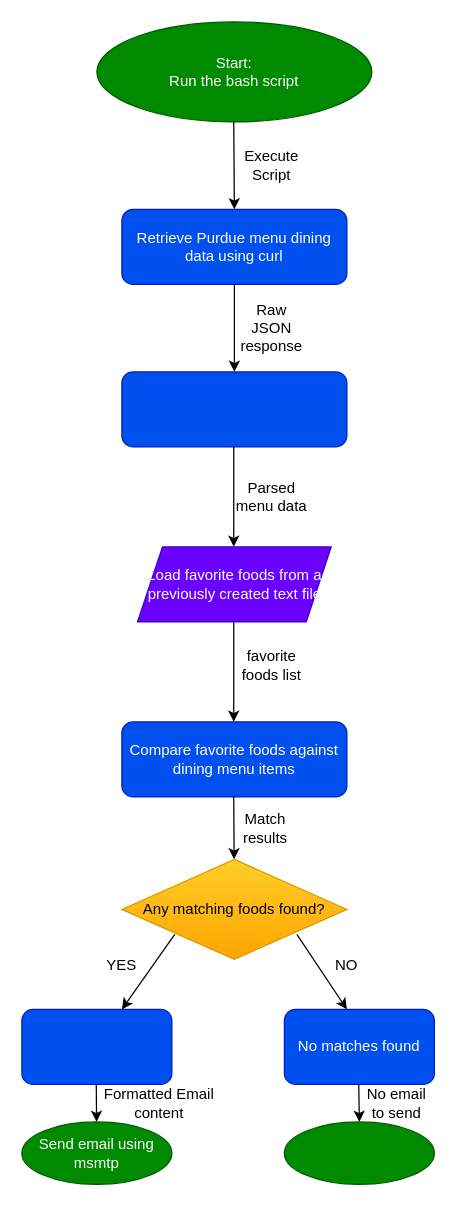
This 456x1206 diagram has some shape labels left out. The centre of each missing label's shape, as x and y in pixels:
Don't send email: point 358,1152
Format Matching Results: point 96,1046
parse JSON menu data to extract foods and dining halls using jq: point 234,409
